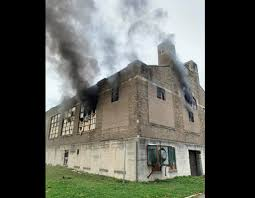smoke: (47, 1, 102, 110), (105, 1, 174, 70), (177, 61, 196, 105), (107, 73, 119, 101)
